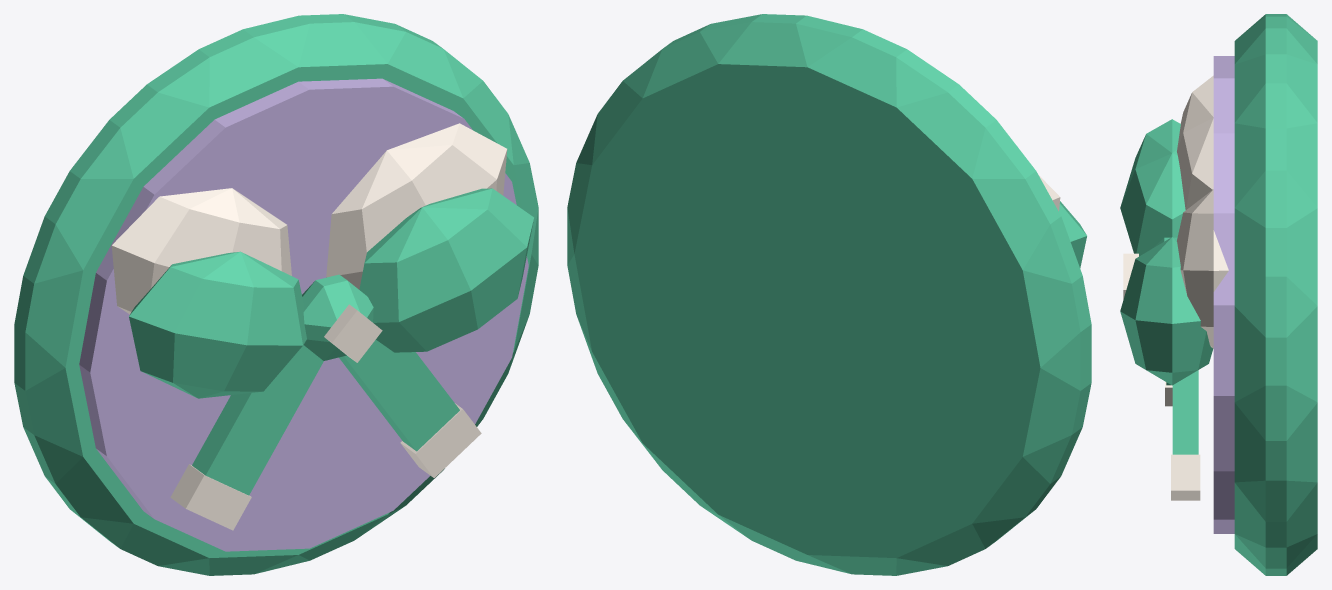
The model's file is CleanACat_Prop_BowButtonMintDouble.fbx.
3 views of the same model, side by side, from view 1: azimuth 30°, elevation 25°; view 2: azimuth 150°, elevation 25°; view 3: azimuth 270°, elevation 25° (orthographic). The views are drawn at different scales.
Parts seen in each view (by area): view 1: CleanACat_Prop_BowButtonMintDouble; view 2: CleanACat_Prop_BowButtonMintDouble; view 3: CleanACat_Prop_BowButtonMintDouble.
Part boxes in pixels (<box>): CleanACat_Prop_BowButtonMintDouble: <box>14,14,538,575</box>; CleanACat_Prop_BowButtonMintDouble: <box>567,14,1091,575</box>; CleanACat_Prop_BowButtonMintDouble: <box>1120,14,1317,575</box>.
Size of the model in its own units: 1.08 by 1.08 by 0.38.
1 material, 1 textured.
